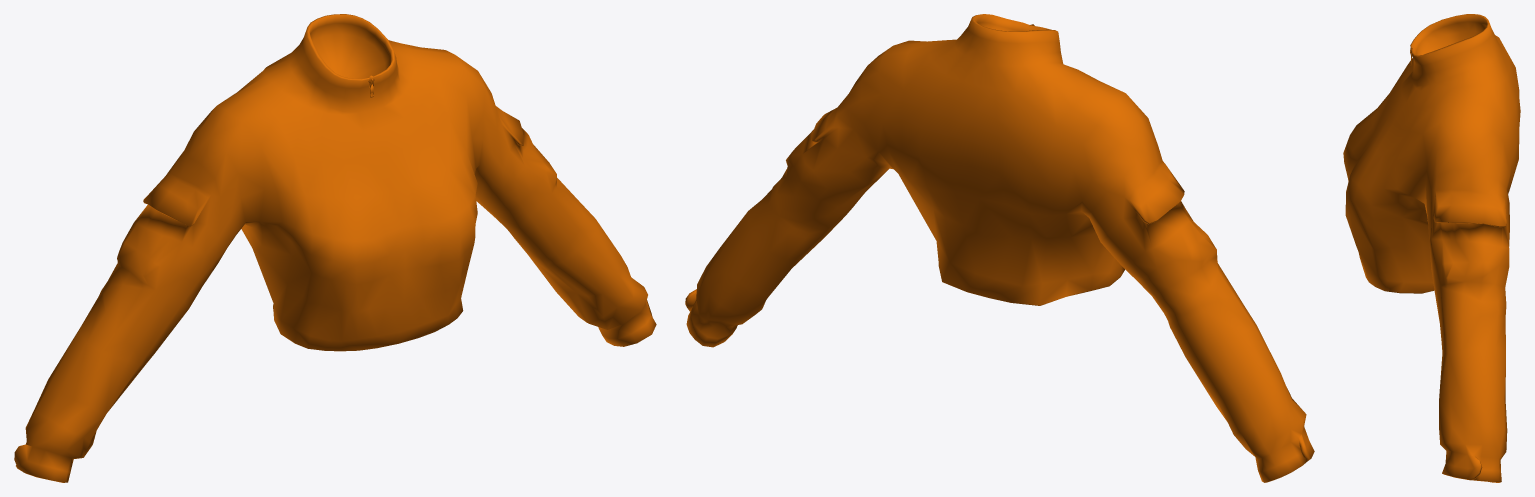
The picture shows the model from 3 angles, left to right: view 1: azimuth 30°, elevation 25°; view 2: azimuth 150°, elevation 25°; view 3: azimuth 270°, elevation 25°; orthographic projection. The views are drawn at different scales.
Parts seen in each view (by area): view 1: hash_62ABA77C.model; view 2: hash_62ABA77C.model; view 3: hash_62ABA77C.model.
Part boxes in pixels (<box>): hash_62ABA77C.model: <box>14,14,656,482</box>; hash_62ABA77C.model: <box>685,14,1314,482</box>; hash_62ABA77C.model: <box>1343,14,1520,482</box>.
Bounding box in the file's own units: 1.09 × 0.6435 × 0.3044.
